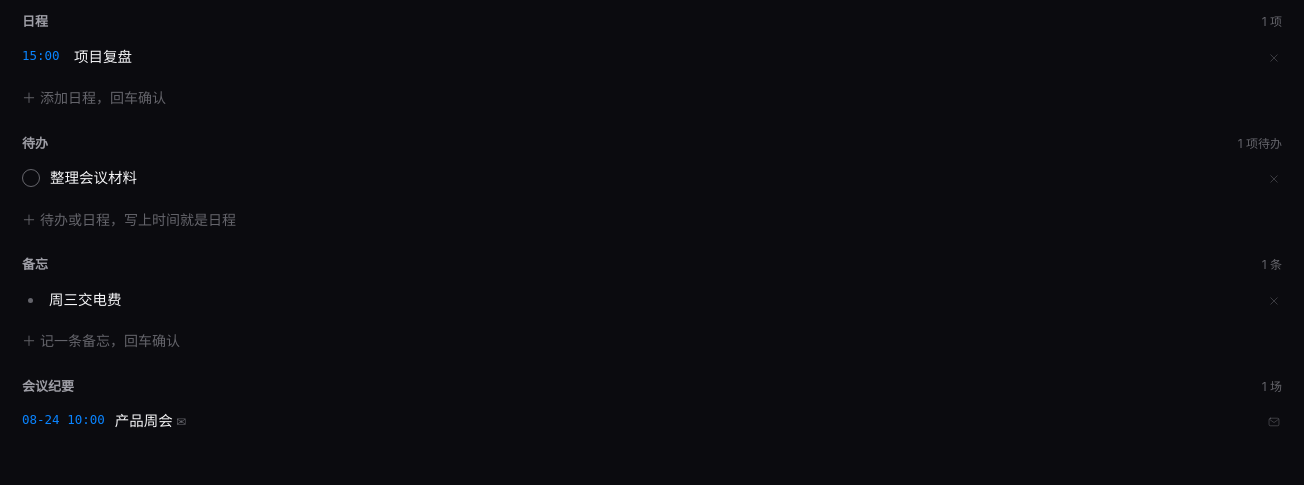
会议纪要卡片 › 重发邮件按钮真的调接口并回显收件人
Click the button titled "重发纪要邮件": [1274, 422] box 1262,410 -> 1286,434
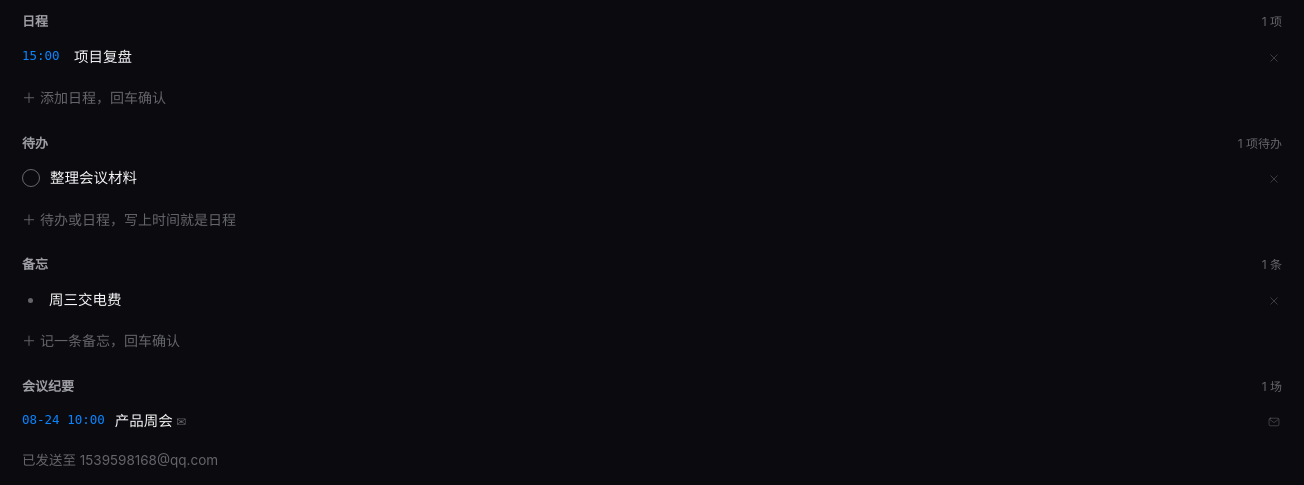
Check: the message shows "1539598168@qq.com", box 22,452 -> 218,468
